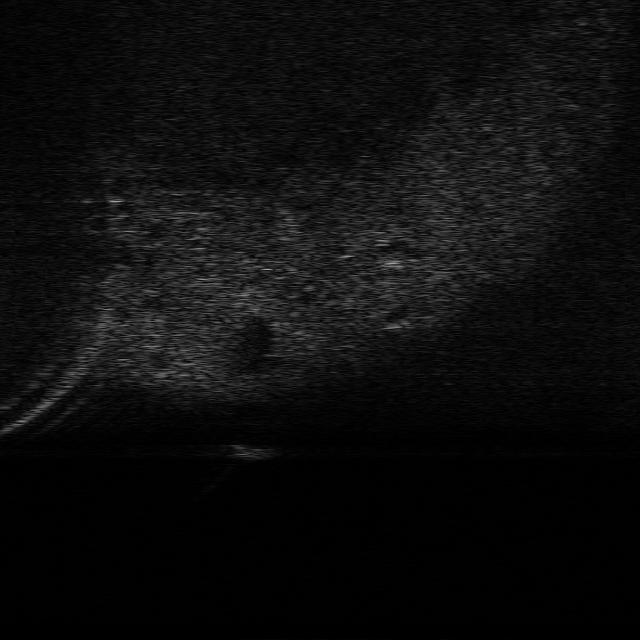cube: (226, 441, 278, 463)
